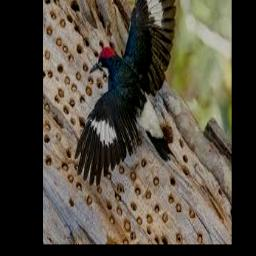Woodpecker: (75, 0, 179, 186)
